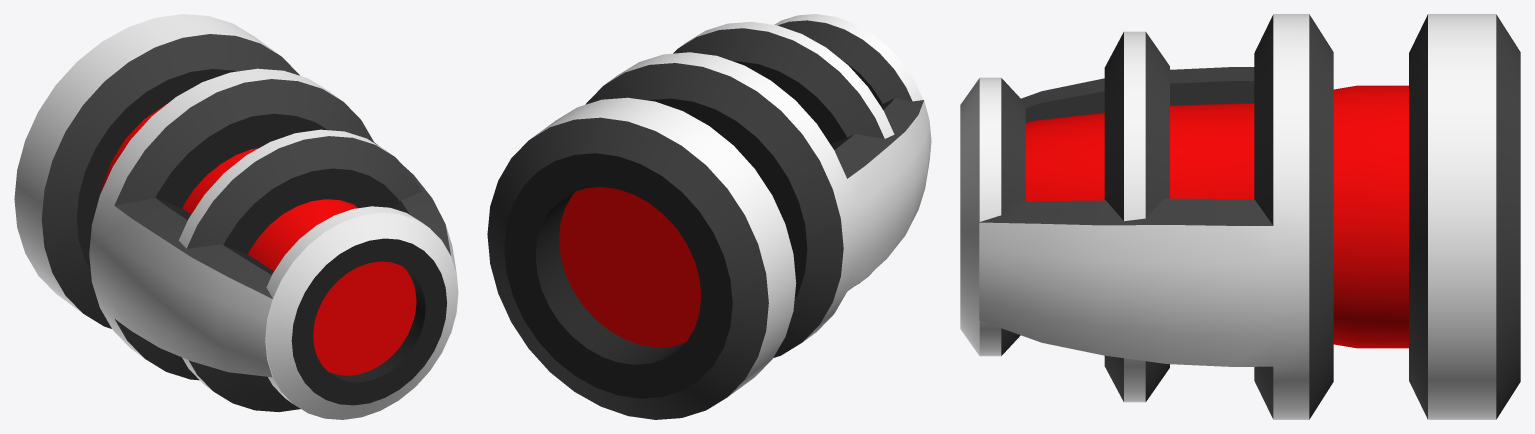
The model's file is reactorCore.obj.
The picture shows the model from 3 angles, left to right: view 1: azimuth 30°, elevation 25°; view 2: azimuth 150°, elevation 25°; view 3: azimuth 270°, elevation 25°; orthographic projection. The views are drawn at different scales.
Visible parts, largest first — view 1: Cylinder026, Cylinder020, Cylinder027, Cylinder030, Cylinder028; view 2: Cylinder020, Cylinder026, Cylinder028, Cylinder030, Cylinder027; view 3: Cylinder026, Cylinder020, Cylinder028, Cylinder030, Cylinder027.
Part boxes in pixels (x1,y1,x2,y2): Cylinder026: [89, 68, 458, 380]; Cylinder020: [14, 14, 299, 328]; Cylinder027: [265, 206, 457, 419]; Cylinder030: [179, 129, 421, 411]; Cylinder028: [101, 104, 416, 375]; Cylinder020: [487, 97, 796, 419]; Cylinder026: [585, 52, 931, 357]; Cylinder028: [559, 187, 701, 347]; Cylinder030: [673, 22, 894, 285]; Cylinder027: [774, 14, 923, 104]; Cylinder026: [979, 14, 1333, 419]; Cylinder020: [1409, 14, 1520, 419]; Cylinder028: [1025, 85, 1408, 348]; Cylinder030: [1104, 31, 1169, 402]; Cylinder027: [960, 77, 1025, 356].
Size of the model in its own units: 1.54 by 1.55 by 2.12.
